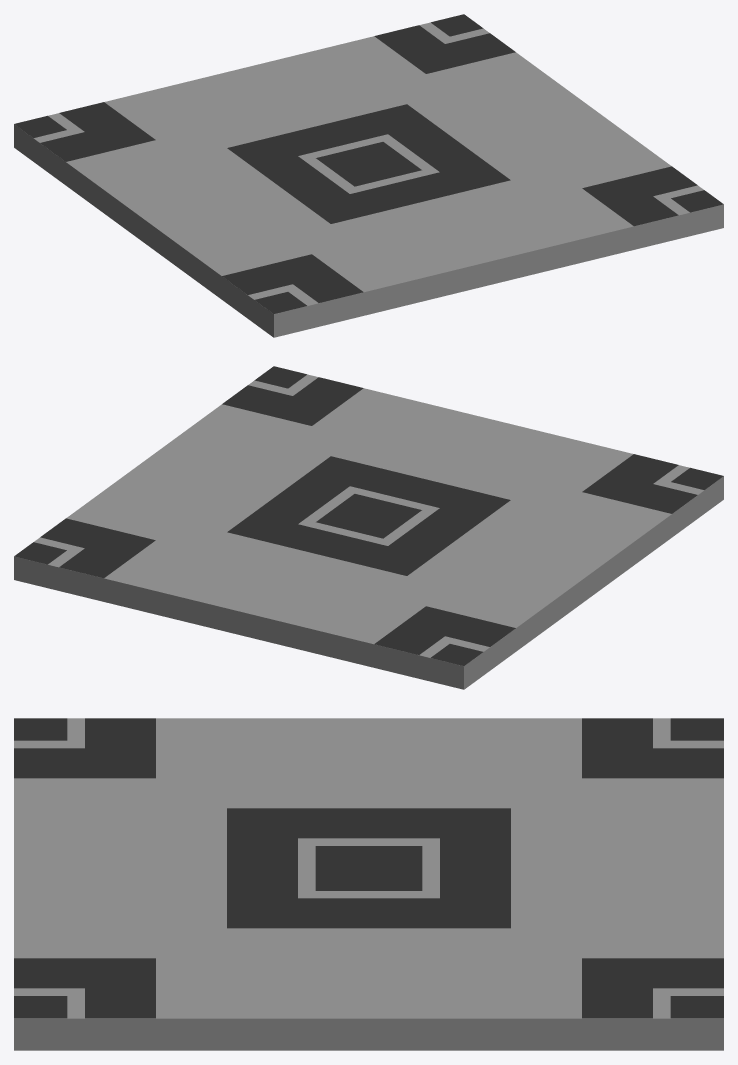
File: cbgt_free_v0.4.0_ground_pavement_mixed_01_v1.1.0.glb
3 views of the same model, one above another, from view 1: azimuth 30°, elevation 25°; view 2: azimuth 150°, elevation 25°; view 3: azimuth 270°, elevation 25° (orthographic). The views are drawn at different scales.
Visible parts, largest first — view 1: cbgt_free_v0.4.0_ground_pavement_mixed_01_v1.1.0, decoration.003; view 2: cbgt_free_v0.4.0_ground_pavement_mixed_01_v1.1.0, decoration.003; view 3: cbgt_free_v0.4.0_ground_pavement_mixed_01_v1.1.0, decoration.003.
Part boxes in pixels (x1,y1,x2,y2): cbgt_free_v0.4.0_ground_pavement_mixed_01_v1.1.0: (14,22,723,337); decoration.003: (14,14,723,313); cbgt_free_v0.4.0_ground_pavement_mixed_01_v1.1.0: (14,374,723,689); decoration.003: (14,366,723,665); cbgt_free_v0.4.0_ground_pavement_mixed_01_v1.1.0: (14,718,723,1050); decoration.003: (14,718,723,1018).
Bounding box in the file's own units: 10 × 0.502 × 10.
Materials: 1 (1 with a texture image).
